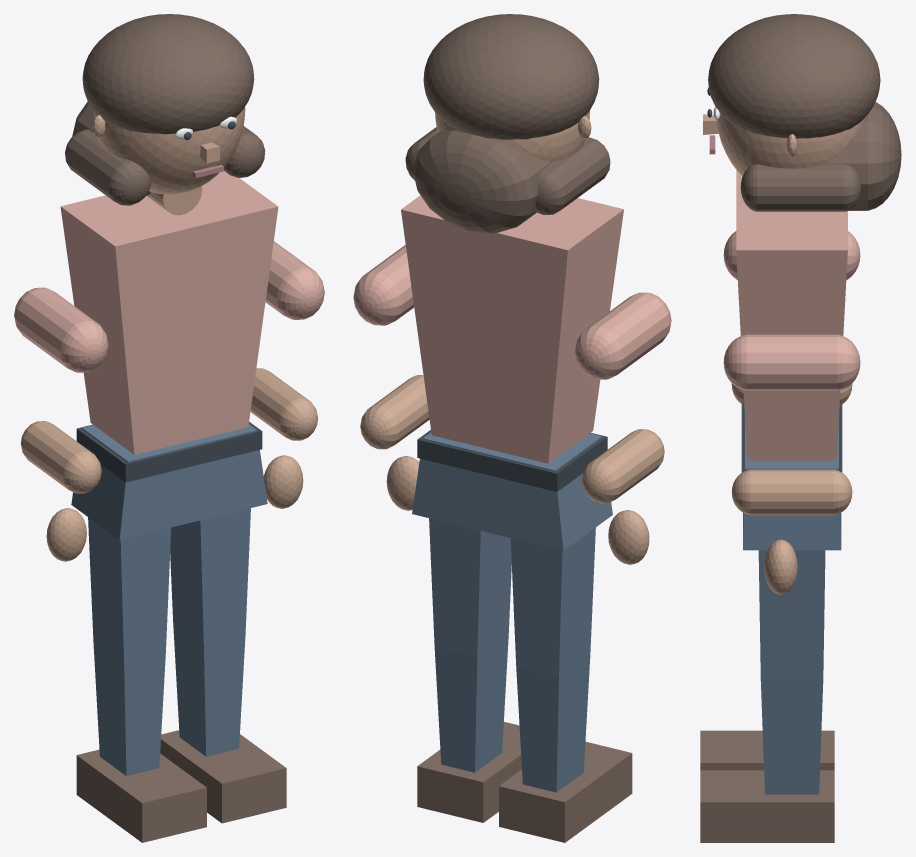
Rendered from npc_female.glb.
3 views of the same model, side by side, from view 1: azimuth 30°, elevation 25°; view 2: azimuth 150°, elevation 25°; view 3: azimuth 270°, elevation 25° (orthographic). The views are drawn at different scales.
Parts seen in each view (by area): view 1: Torso, Hair, Hips, Thigh_L, Thigh_R, Shoe_L, Calf_L, Calf_R, Shoe_R, Head, Arm_L_Mesh, Belt (+8 smaller); view 2: Torso, Hair, Hips, HairBack, Thigh_L, Thigh_R, Calf_R, Calf_L, Shoe_L, Arm_L_Mesh, Shoe_R, Belt (+7 smaller); view 3: Torso, Hair, Shoe_R, Thigh_R, Arm_R_Mesh, Calf_R, HairSideR, Forearm_R_Mesh, Hips, HairBack, Head, Shoe_L (+3 smaller).
Boxes of the visible parts, x1,y1,x2,y2 form: Torso: [60, 171, 278, 454]; Hair: [82, 14, 254, 134]; Hips: [71, 424, 267, 539]; Thigh_L: [88, 517, 171, 663]; Thigh_R: [170, 508, 250, 643]; Shoe_L: [76, 749, 206, 842]; Calf_L: [93, 641, 165, 775]; Calf_R: [173, 622, 245, 756]; Shoe_R: [160, 730, 286, 823]; Head: [94, 107, 245, 194]; Arm_L_Mesh: [14, 287, 108, 372]; Belt: [76, 421, 262, 482]; Torso: [401, 195, 623, 463]; Hair: [423, 14, 599, 139]; Hips: [412, 432, 612, 550]; HairBack: [413, 130, 550, 233]; Thigh_L: [510, 527, 595, 677]; Thigh_R: [429, 518, 511, 657]; Calf_R: [434, 635, 508, 772]; Calf_L: [516, 655, 590, 792]; Shoe_L: [499, 741, 632, 842]; Arm_L_Mesh: [575, 292, 671, 379]; Shoe_R: [417, 722, 521, 822]; Belt: [417, 430, 607, 491]; Torso: [736, 170, 847, 460]; Hair: [708, 14, 880, 138]; Shoe_R: [700, 770, 834, 842]; Thigh_R: [758, 550, 825, 679]; Arm_R_Mesh: [723, 334, 860, 390]; Calf_R: [760, 679, 823, 794]; HairSideR: [740, 164, 861, 211]; Forearm_R_Mesh: [731, 469, 852, 515]; Hips: [743, 419, 841, 550]; HairBack: [826, 101, 901, 210]; Head: [716, 114, 865, 175]; Shoe_L: [700, 730, 834, 770].
Size of the model in its own units: 0.6909 by 1.93 by 0.45.
